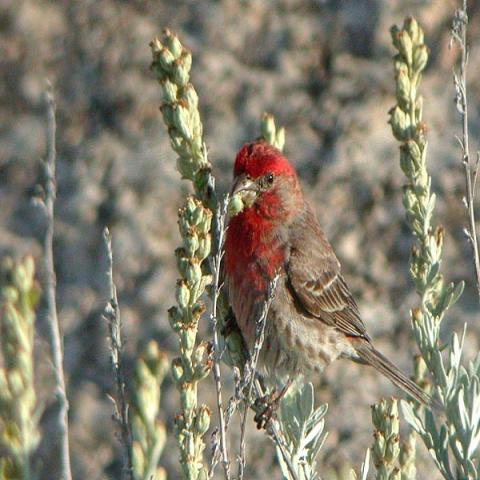bird: (220, 136, 446, 429)
